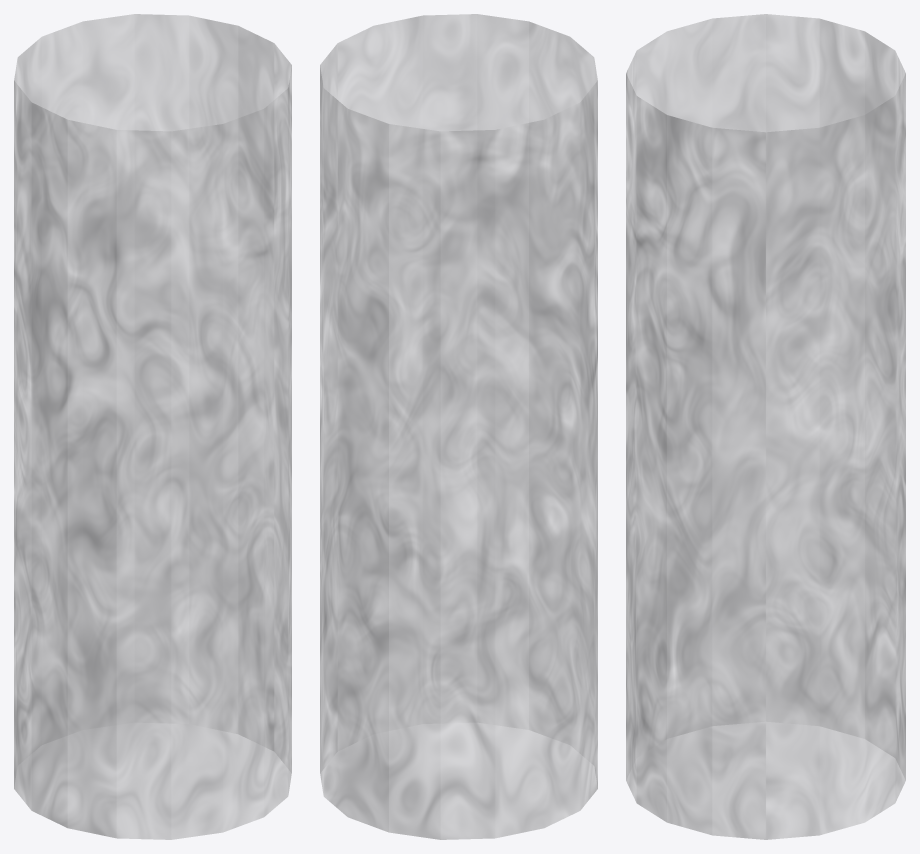
The model's file is CylindricalShield.fbx.
3 renders of one model, left to right at view 1: azimuth 30°, elevation 25°; view 2: azimuth 150°, elevation 25°; view 3: azimuth 270°, elevation 25°, orthographic.
Visible parts, largest first — view 1: CylidricalShiled; view 2: CylidricalShiled; view 3: CylidricalShiled.
Part boxes in pixels (x1,y1,x2,y2): CylidricalShiled: (14, 14, 291, 839); CylidricalShiled: (320, 14, 597, 839); CylidricalShiled: (626, 14, 905, 839).
Bounding box in the file's own units: 200 × 558 × 200.
Materials: 1 (1 with a texture image).
